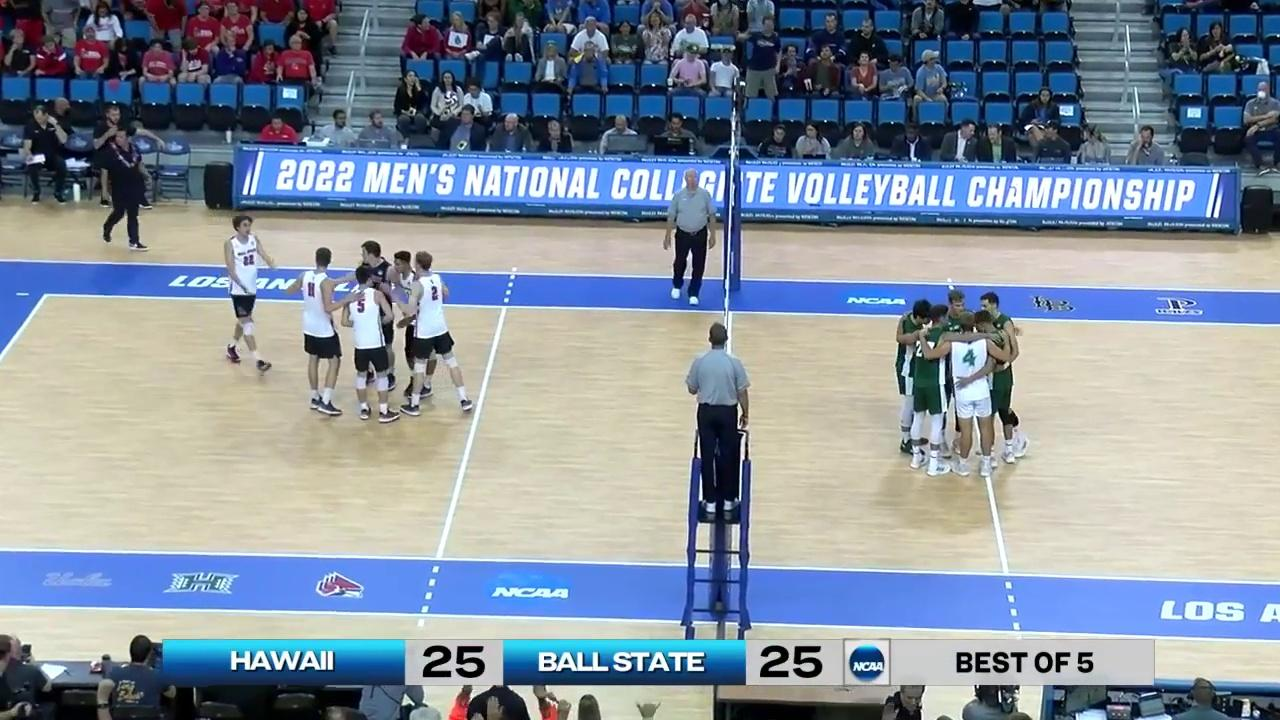player: (405, 253, 473, 415), (295, 248, 353, 416), (978, 294, 1031, 459), (944, 314, 997, 476), (345, 268, 400, 423), (225, 212, 275, 374), (911, 305, 952, 476), (974, 310, 1016, 467), (355, 241, 398, 391), (393, 250, 435, 398), (939, 289, 975, 458), (895, 299, 929, 456)
refree: (684, 326, 751, 515), (671, 173, 721, 307)
